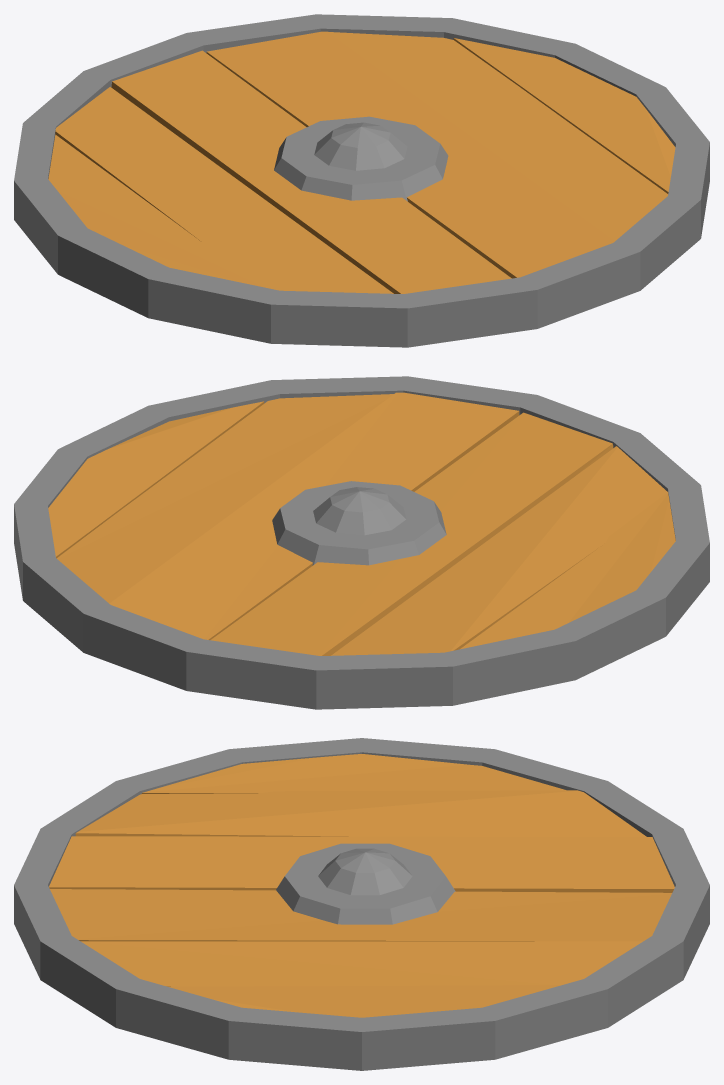
The model's file is shield.fbx.
3 views of the same model, one above another, from view 1: azimuth 30°, elevation 25°; view 2: azimuth 150°, elevation 25°; view 3: azimuth 270°, elevation 25° (orthographic).
Visible parts, largest first — view 1: shield; view 2: shield; view 3: shield.
Boxes of the visible parts, x1,y1,x2,y2 form: shield: (14, 14, 709, 347); shield: (14, 376, 709, 709); shield: (14, 738, 709, 1070).
Bounding box in the file's own units: 0.8641 × 0.1734 × 0.8641.
